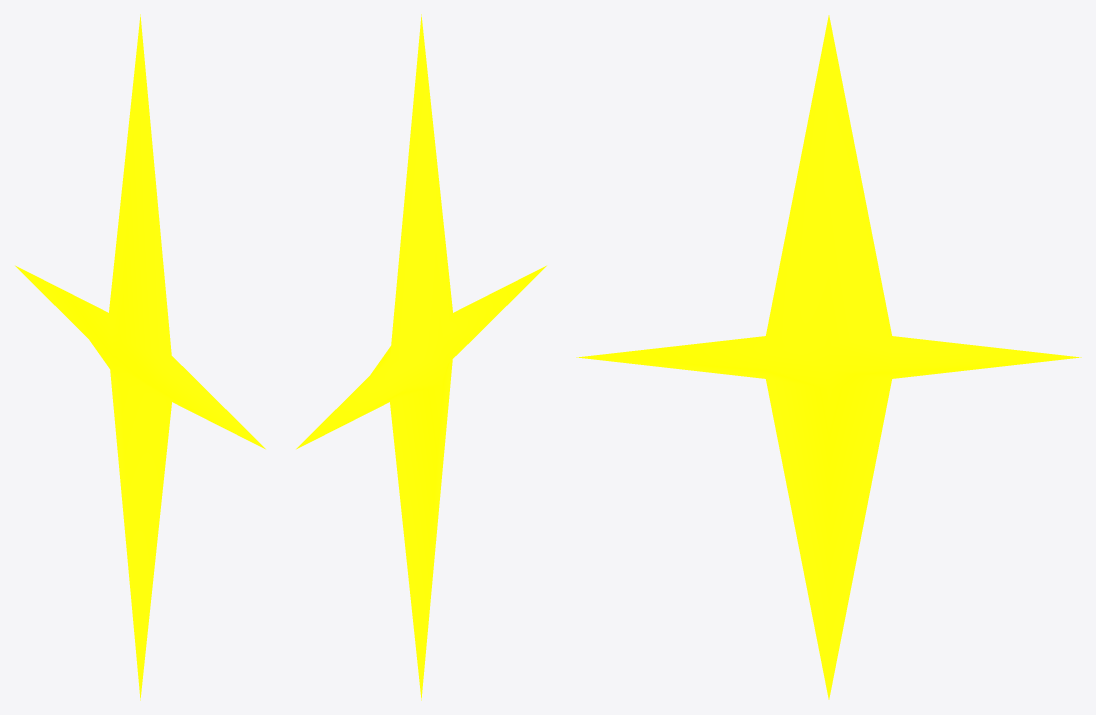
The model's file is sharp_star_24.glb.
3 renders of one model, left to right at view 1: azimuth 30°, elevation 25°; view 2: azimuth 150°, elevation 25°; view 3: azimuth 270°, elevation 25°, orthographic.
Visible parts, largest first — view 1: sharp_star_24; view 2: sharp_star_24; view 3: sharp_star_24.
Part boxes in pixels (x1,y1,x2,y2): sharp_star_24: [15, 14, 265, 700]; sharp_star_24: [296, 14, 546, 700]; sharp_star_24: [576, 15, 1081, 699].
Bounding box in the file's own units: 0.6452 × 8 × 5.34.
